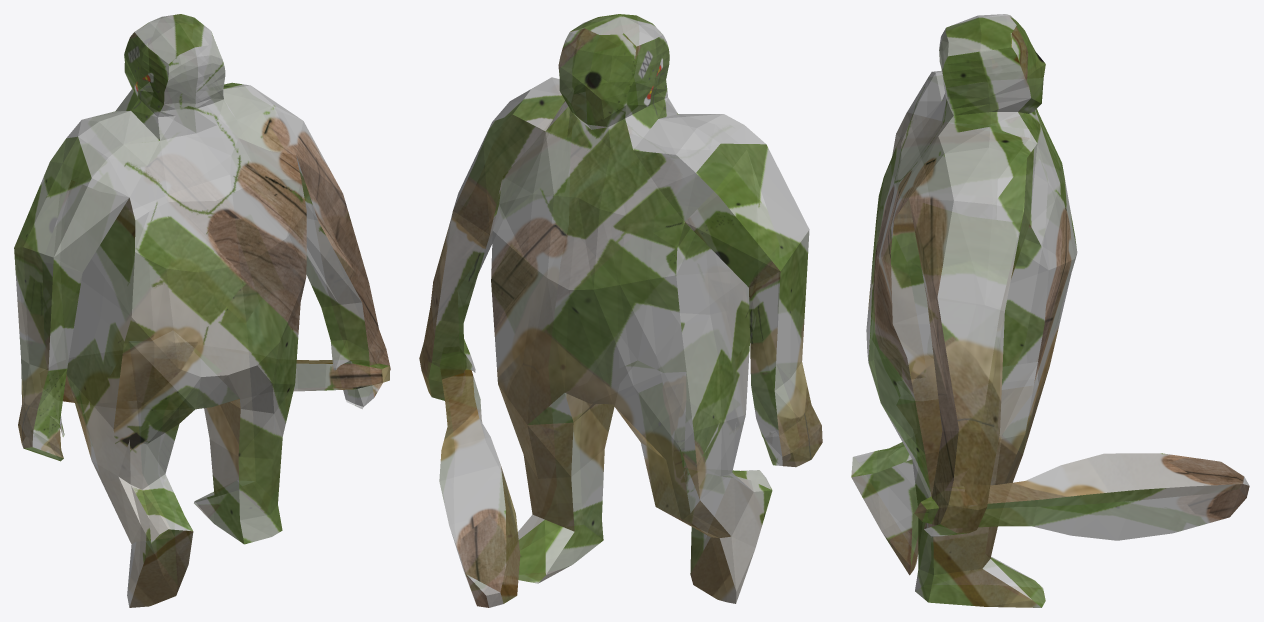
Rendered from Enemigo216.obj.
3 renders of one model, left to right at view 1: azimuth 30°, elevation 25°; view 2: azimuth 150°, elevation 25°; view 3: azimuth 270°, elevation 25°, orthographic. The views are drawn at different scales.
Visible parts, largest first — view 1: Cube; view 2: Cube; view 3: Cube.
Boxes of the visible parts, x1,y1,x2,y2 form: Cube: [14, 14, 390, 607]; Cube: [419, 14, 822, 607]; Cube: [851, 14, 1249, 607].
Size of the model in its own units: 1.97 by 2.85 by 1.77.
